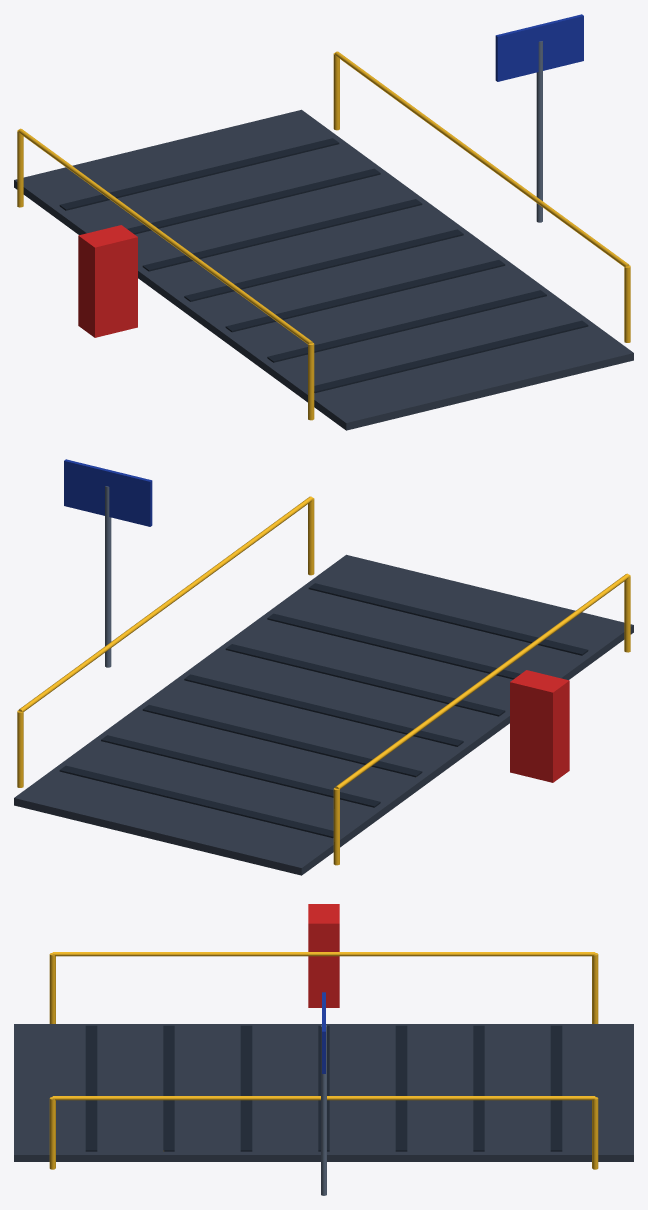
The model's file is yard-tire-inspection-body-authored-atlas.glb.
3 views of the same model, one above another, from view 1: azimuth 30°, elevation 25°; view 2: azimuth 150°, elevation 25°; view 3: azimuth 270°, elevation 25° (orthographic). The views are drawn at different scales.
Parts seen in each view (by area): view 1: Authored surface.080; view 2: Authored surface.080; view 3: Authored surface.080.
Boxes of the visible parts, <box> form: Authored surface.080: <box>14,14,633,430</box>; Authored surface.080: <box>14,459,633,875</box>; Authored surface.080: <box>14,904,633,1195</box>.
Size of the model in its own units: 6.9 by 2.6 by 8.
Materials: 1 (1 with a texture image).
